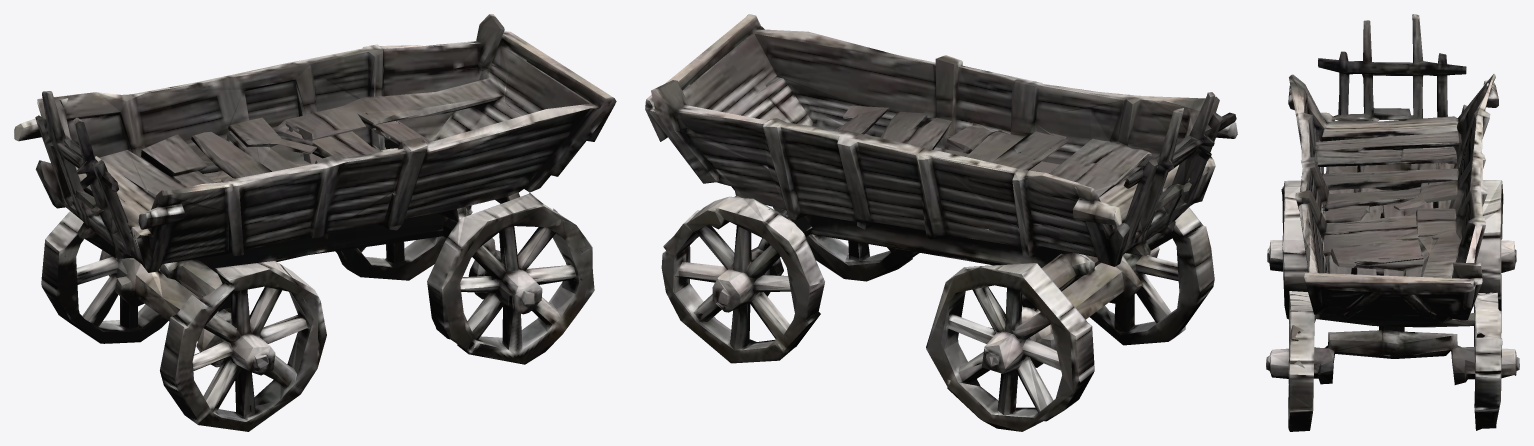
Rendered from combat_burned_cart_01.glb.
3 views of the same model, side by side, from view 1: azimuth 30°, elevation 25°; view 2: azimuth 150°, elevation 25°; view 3: azimuth 270°, elevation 25° (orthographic). The views are drawn at different scales.
Visible parts, largest first — view 1: geometry_0; view 2: geometry_0; view 3: geometry_0.
Boxes of the visible parts, x1=… form: geometry_0: x1=14, y1=14, x2=616, y2=431; geometry_0: x1=645, y1=14, x2=1237, y2=431; geometry_0: x1=1266, y1=14, x2=1519, y2=431.
Bounding box in the file's own units: 0.9946 × 0.5911 × 0.5316.
1 material, 1 textured.
